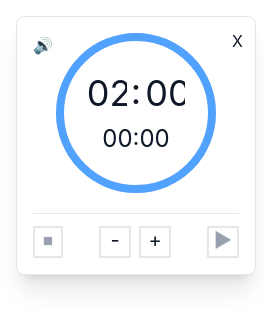
TimerProgress › disables controls appropriately
The width and height of the screenshot is (264, 309).
What coordinates should you click on to do the following:
click the button titled "Start Timer"
I would click on:
 (223, 242)
Its box is [207,226,239,258].
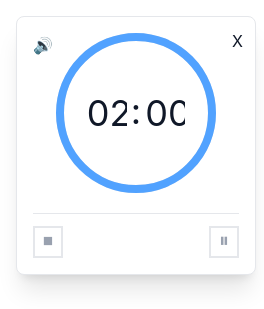
Now the 1st field is disabled, box [87,93,127,133]
Now the 2nd field is disabled, box [145,93,185,133]
